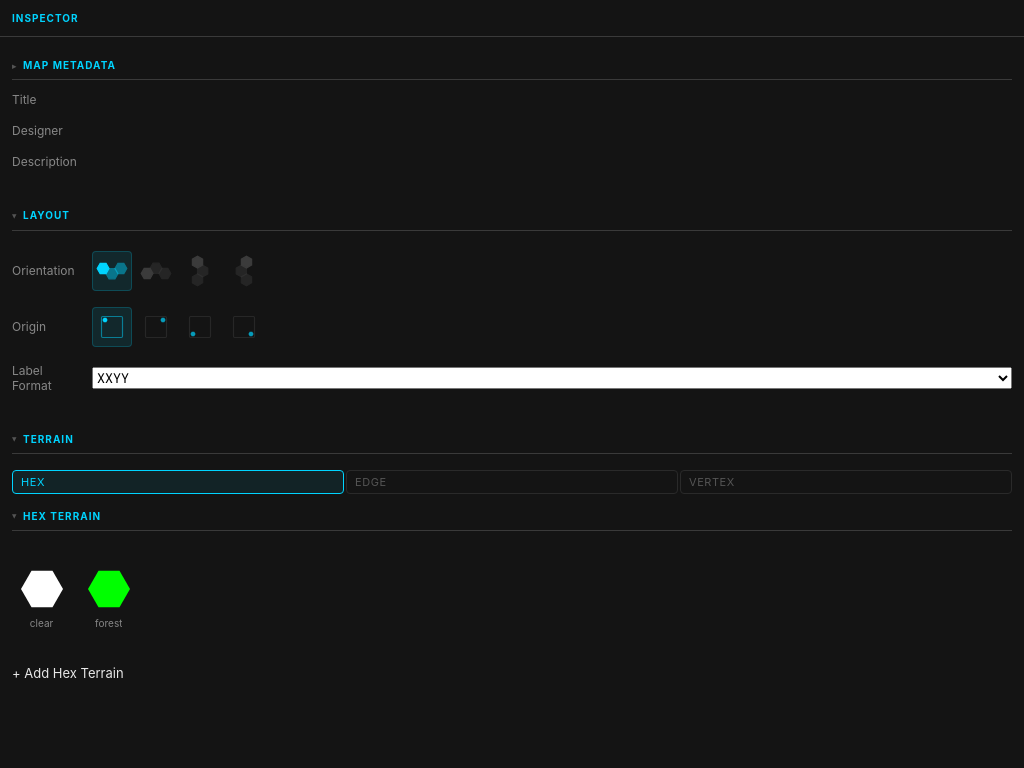
Test: Inspector › Close button collapses the edit form
// Expand edit form
Double-click the button "forest": (109, 597) [85,565,133,629]
(page scrolled)
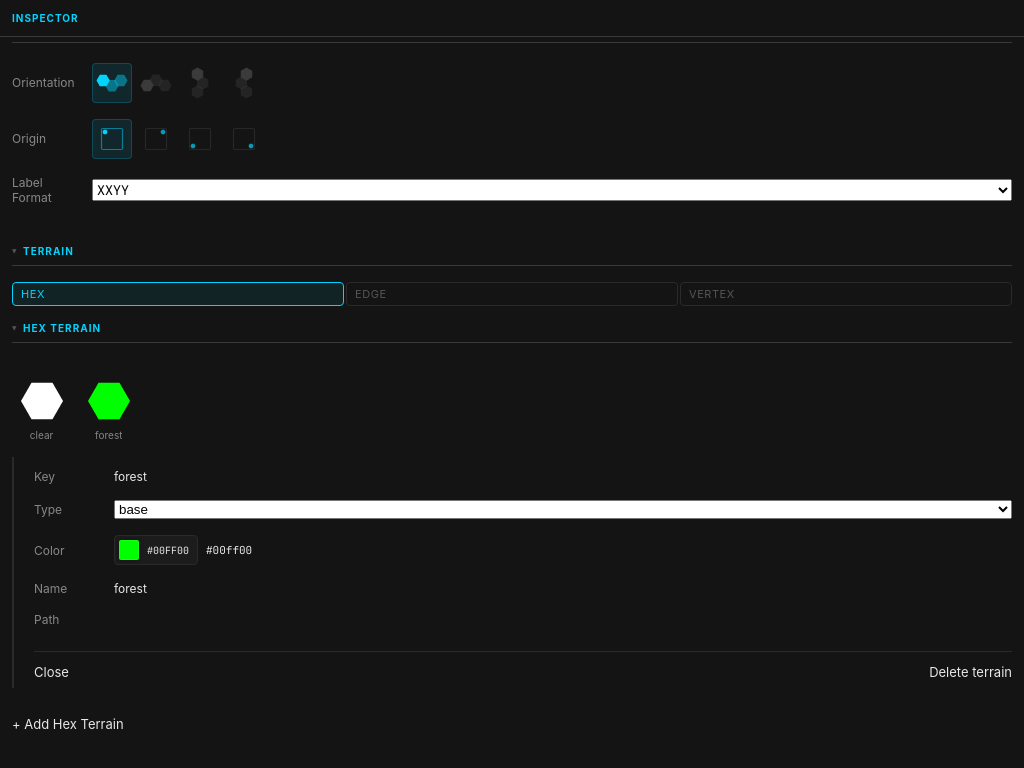
Check: the field labelled "Key" is shown, box [114,469,1012,484]
// Click Close
Click the button "Close": click(51, 672) [34,664,69,680]
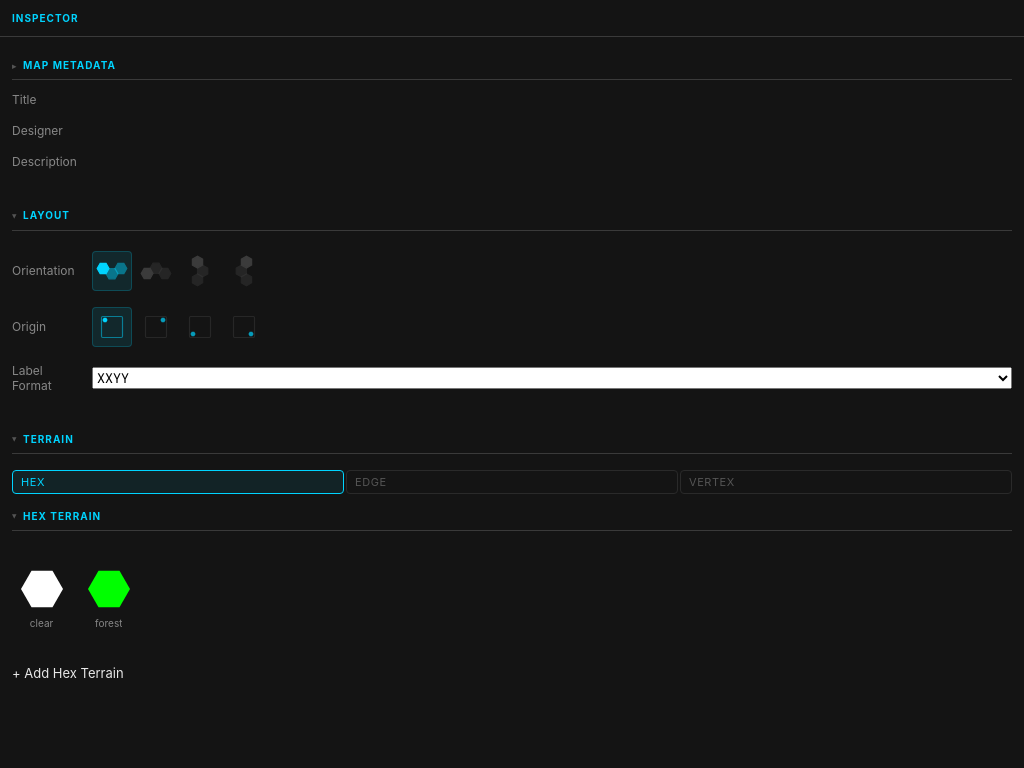
Check: the label labelled "Key" is gone
